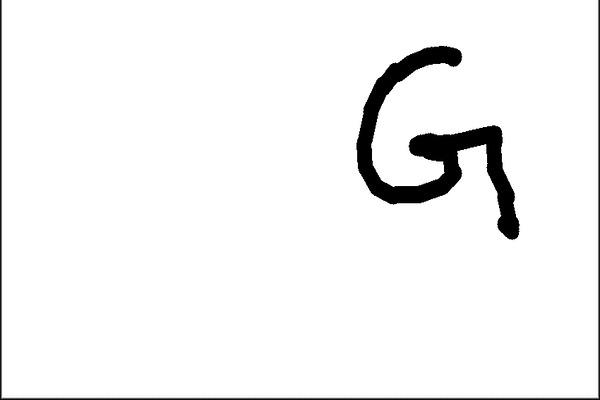G: (352, 38, 523, 243)
